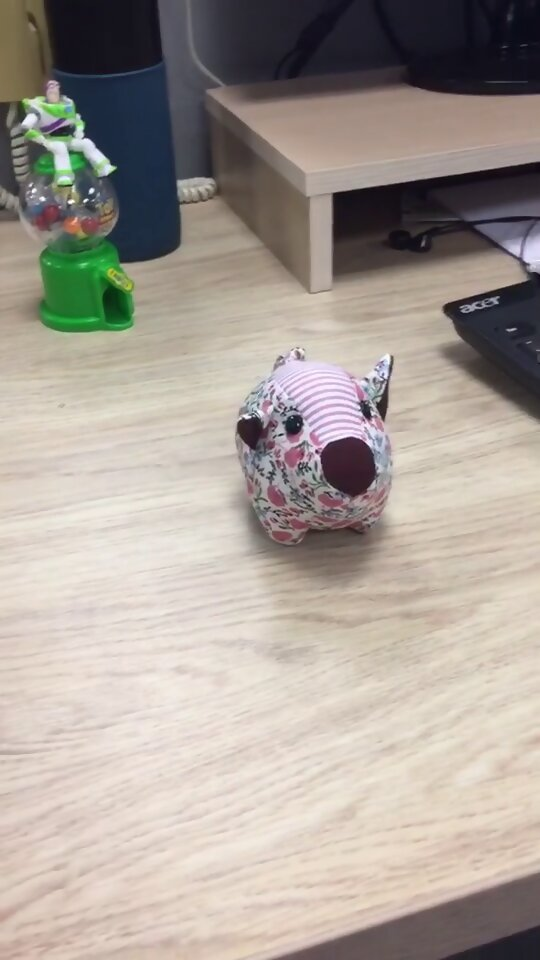pig: (229, 339, 402, 558)
